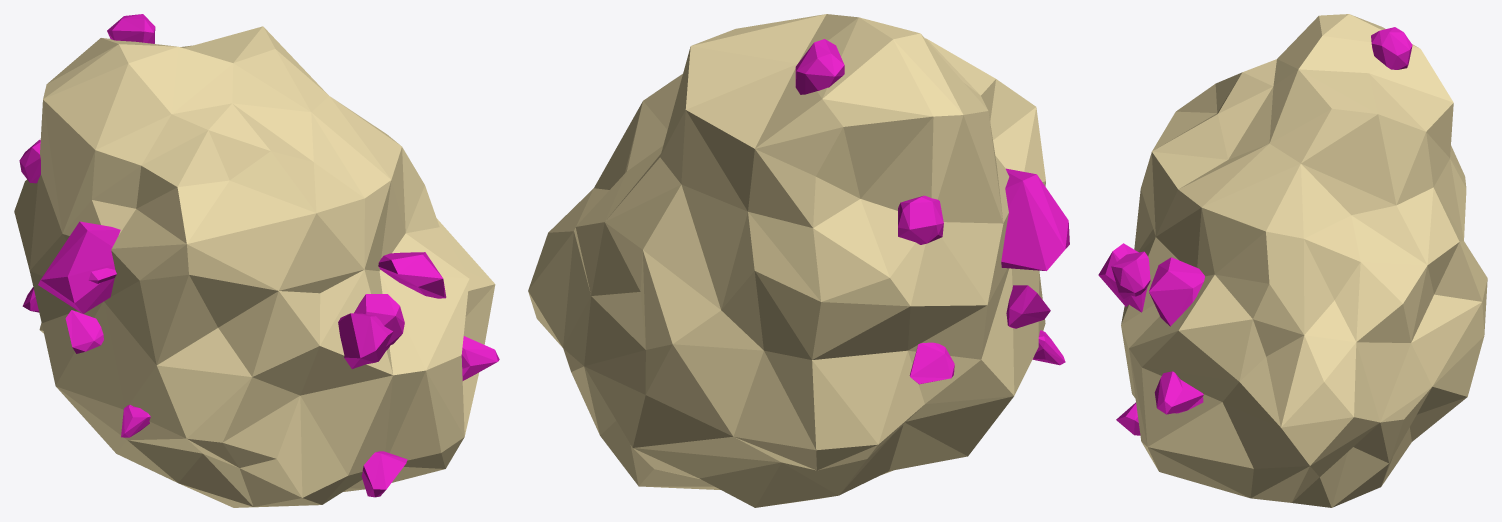
File: CrystalOre (57).fbx
3 views of the same model, side by side, from view 1: azimuth 30°, elevation 25°; view 2: azimuth 150°, elevation 25°; view 3: azimuth 270°, elevation 25° (orthographic). The views are drawn at different scales.
Parts seen in each view (by area): view 1: Asteroid277; view 2: Asteroid277; view 3: Asteroid277.
Boxes of the visible parts, x1,y1,x2,y2 form: Asteroid277: (14,14,499,507); Asteroid277: (528,14,1069,507); Asteroid277: (1098,14,1487,507).
Bounding box in the file's own units: 423 × 412 × 351.
